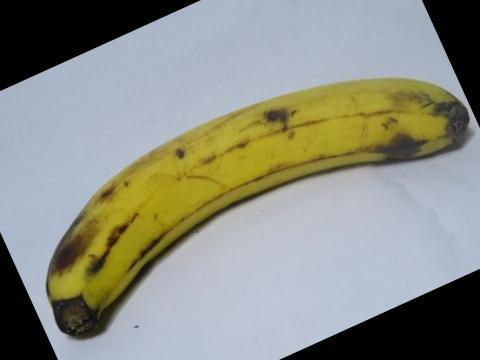ripe: (38, 63, 479, 351)
